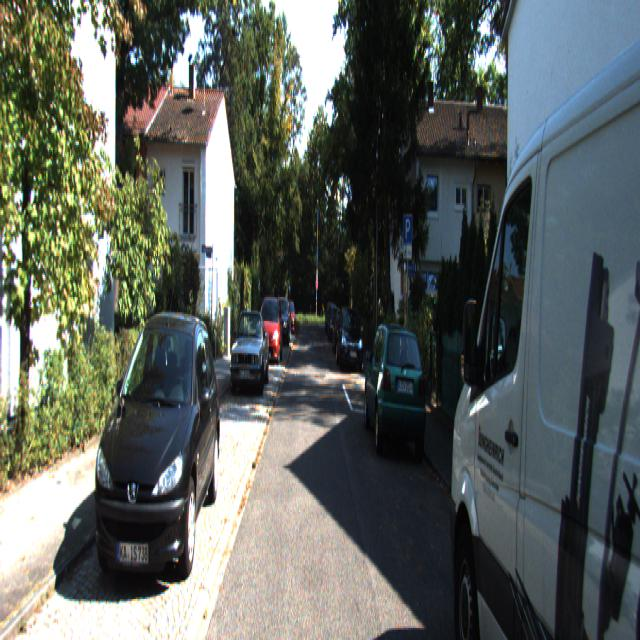Car: (445, 0, 639, 639), (90, 309, 222, 614), (365, 318, 430, 464), (229, 309, 268, 394), (337, 301, 364, 370), (257, 292, 281, 362), (272, 296, 290, 346)
